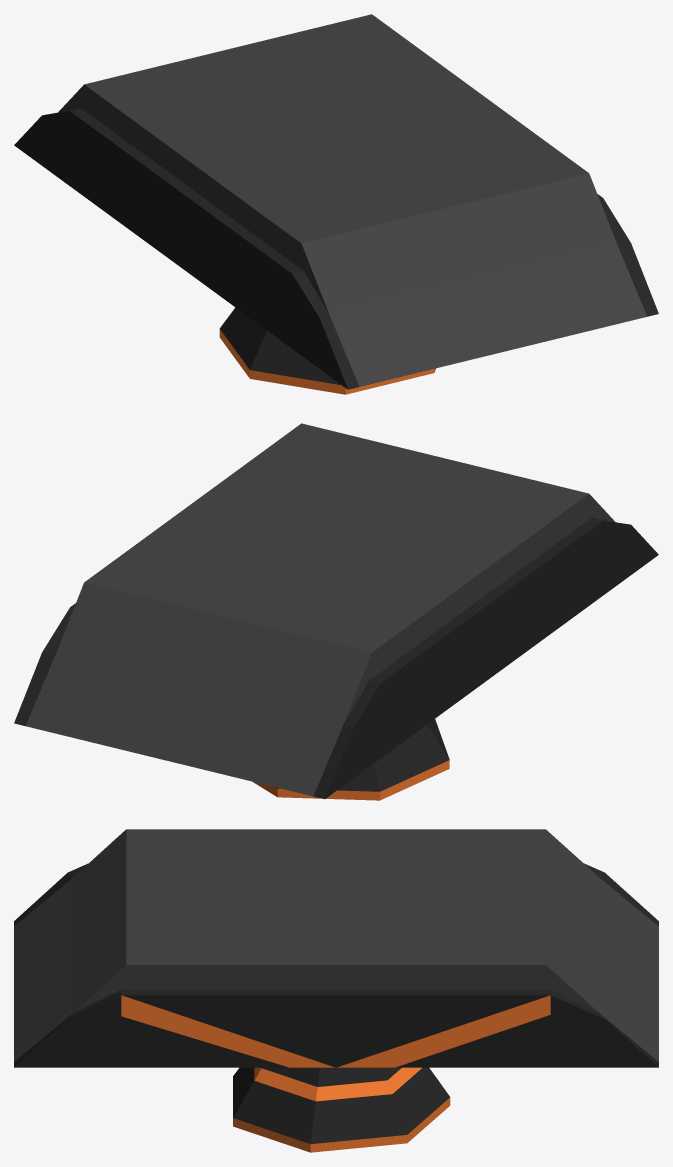
File: model-scenario-plataform-typeA-small.fbx
The picture shows the model from 3 angles, top to bottom: view 1: azimuth 30°, elevation 25°; view 2: azimuth 150°, elevation 25°; view 3: azimuth 270°, elevation 25°; orthographic projection. The views are drawn at different scales.
Parts seen in each view (by area): view 1: mesh; view 2: mesh; view 3: mesh.
Part boxes in pixels (bbox=[...]): mesh: bbox=[14, 14, 658, 394]; mesh: bbox=[14, 423, 658, 800]; mesh: bbox=[14, 829, 658, 1152].
Bounding box in the file's own units: 4 × 2.15 × 1.43.
